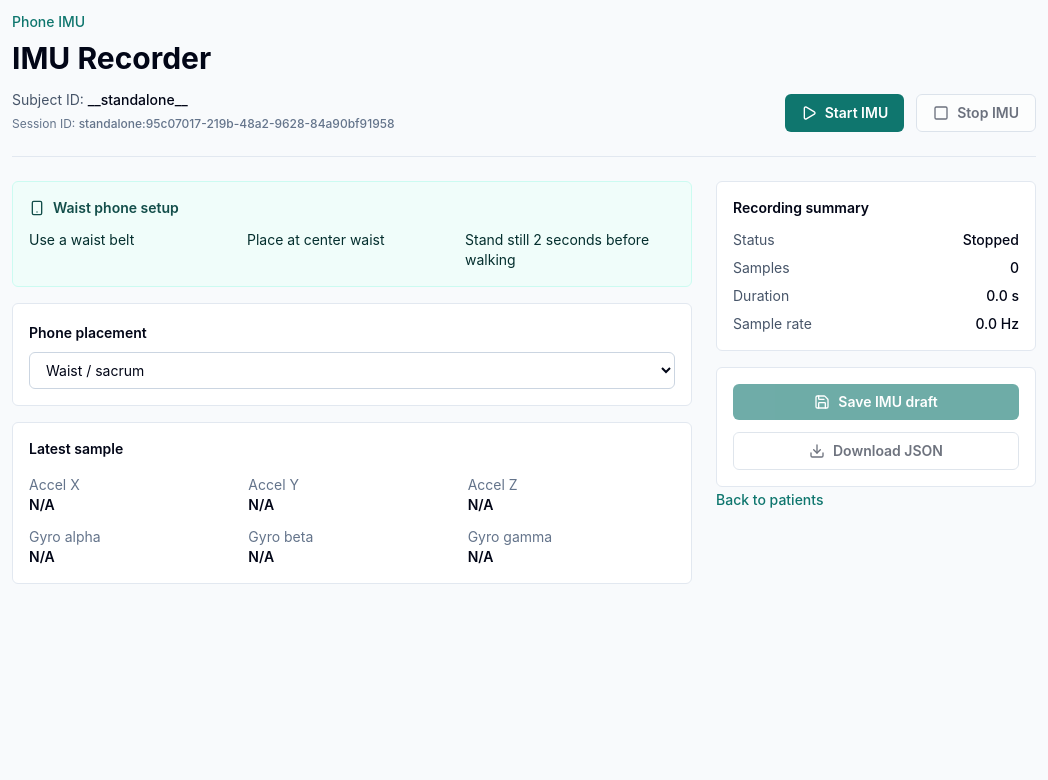
Test case: ImuRecorderPage › shows a permission message when motion access is denied
This screenshot has width=1048, height=780.
Click the button "Start IMU" at coordinates (844, 113), box [785, 94, 904, 132]
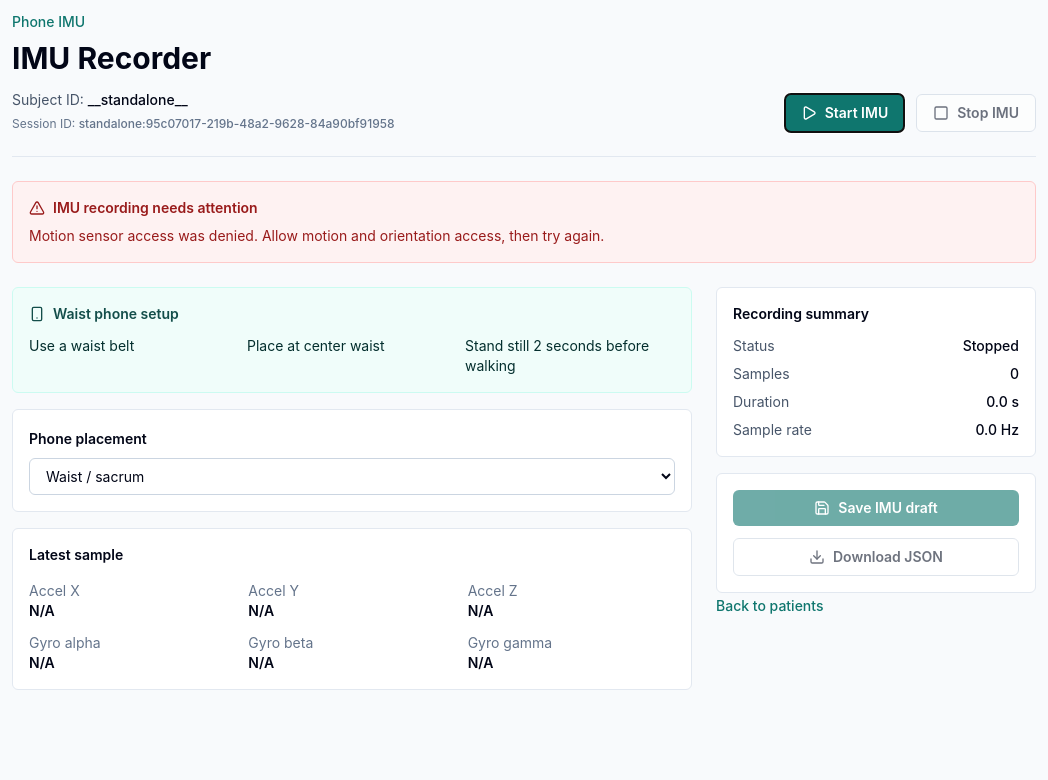
expect the heading "IMU recording needs attention" is shown: met, box [29, 199, 258, 216]
expect the text "Motion sensor access was denied. Allow motion and orientation access, then try again." is shown: met, box [29, 227, 604, 244]
